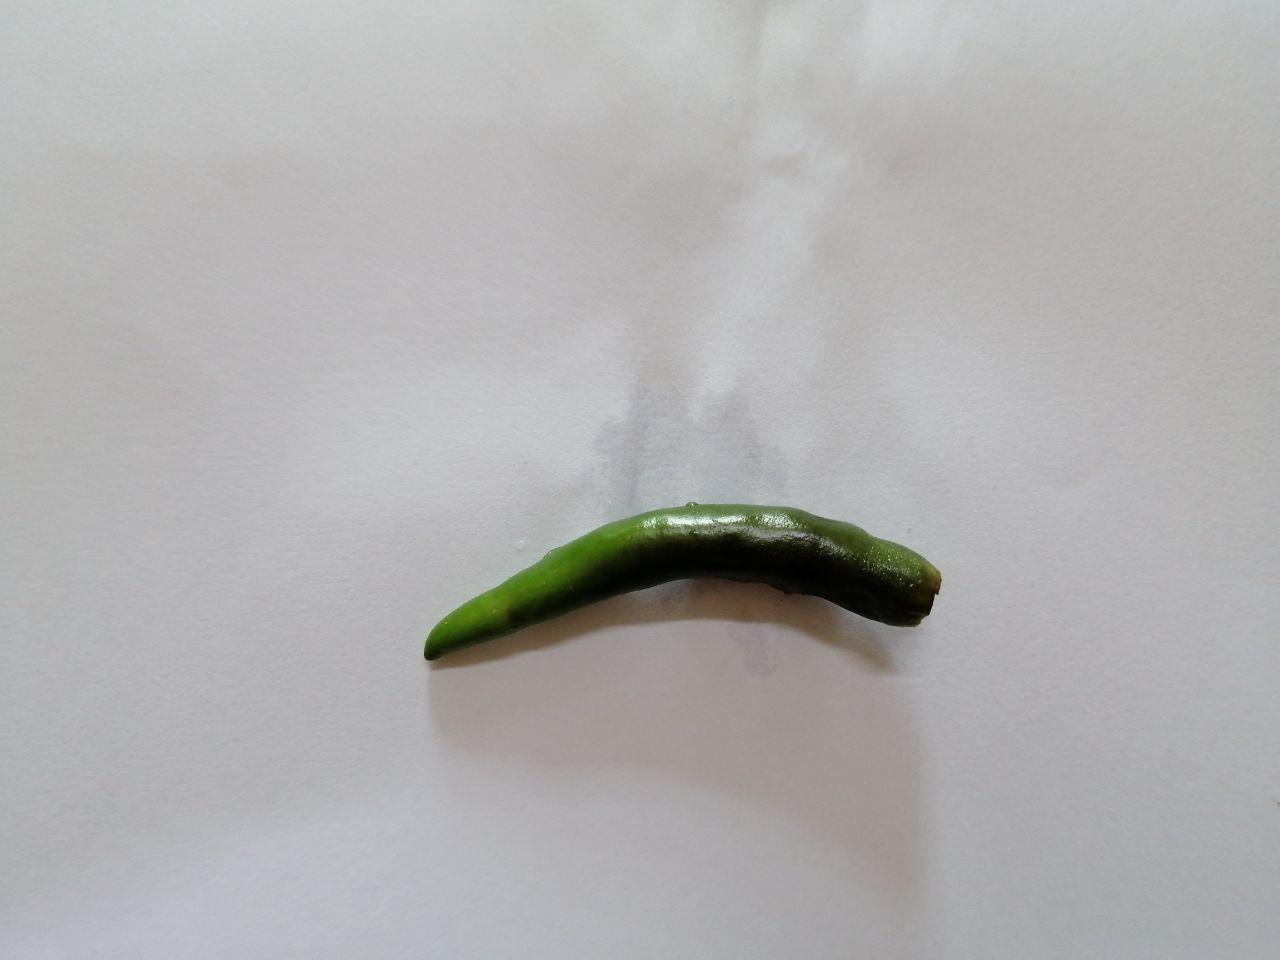lada hijau: (394, 487, 985, 705)
